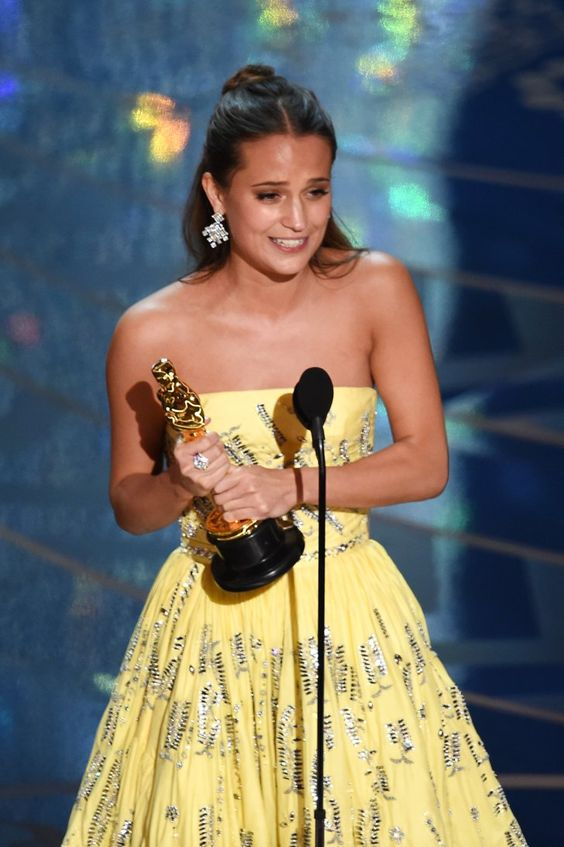hand: (174, 422, 231, 484)
